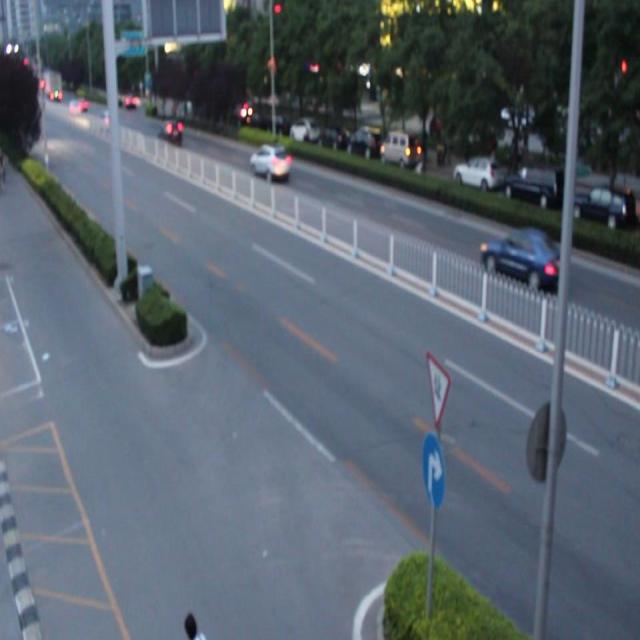car: (478, 229, 564, 291), (251, 142, 291, 180)
